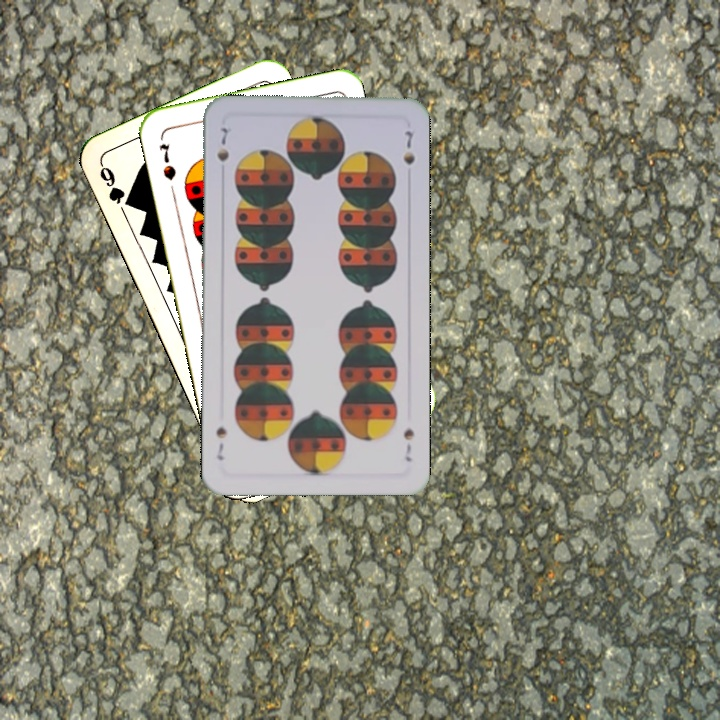G9: (95, 159, 137, 211)
S7: (155, 139, 179, 183), (213, 123, 232, 164), (399, 424, 416, 464)
